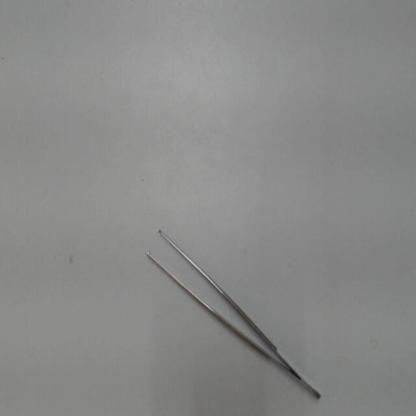Gillies Toothed Dissector: (145, 215, 327, 406)
